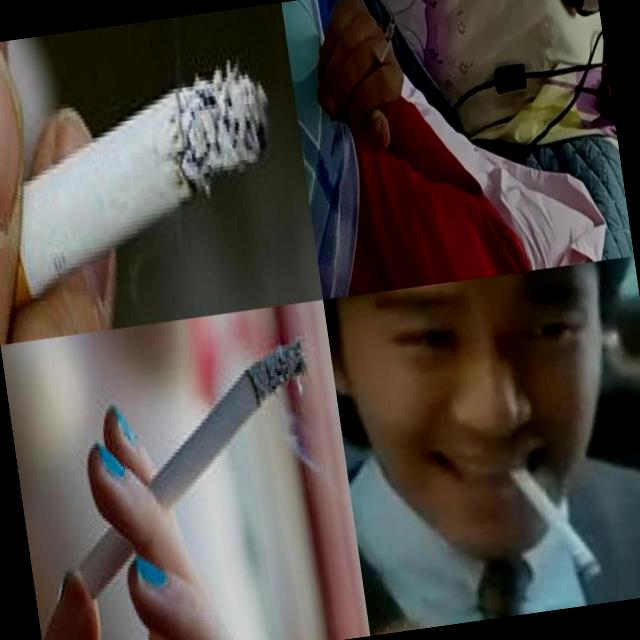cigarette: (0, 53, 293, 317), (49, 336, 336, 602), (504, 455, 605, 593), (366, 20, 401, 73)
